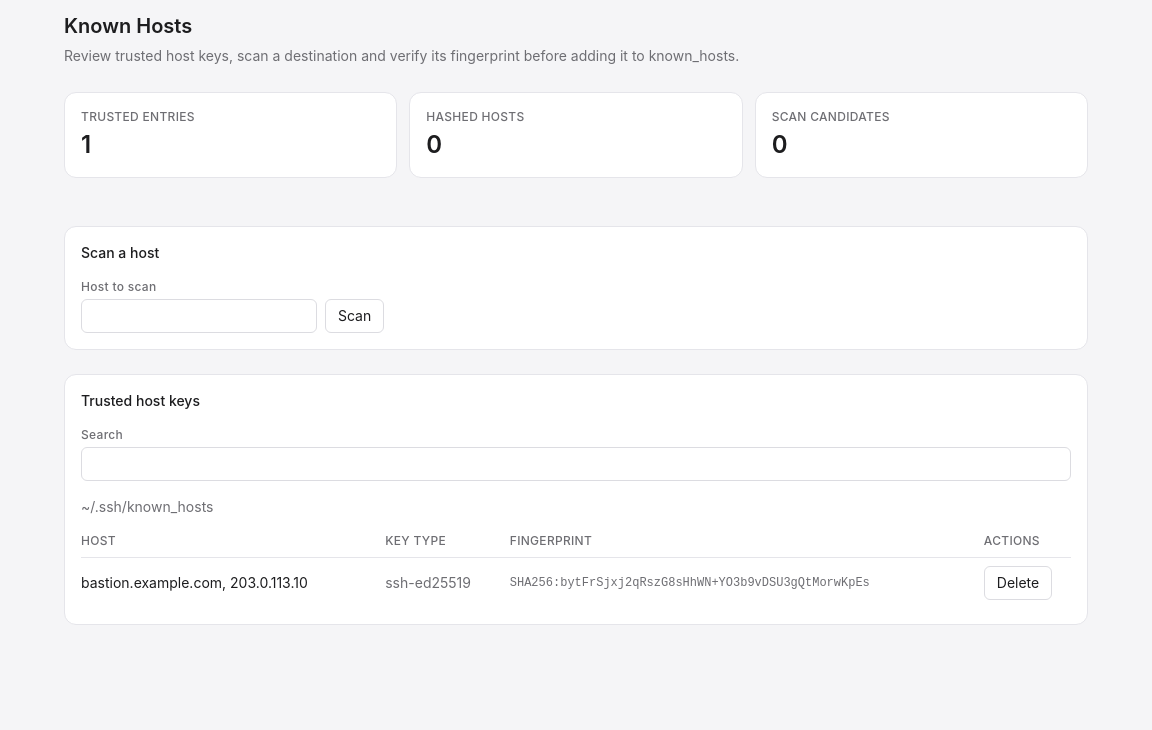
it: KnownHostsPanel › never labels a scanned key verified, even when the response claims it is
Type "new.example.com" into the field labelled "Host to scan" at point(199, 316), box [81,299,317,333]
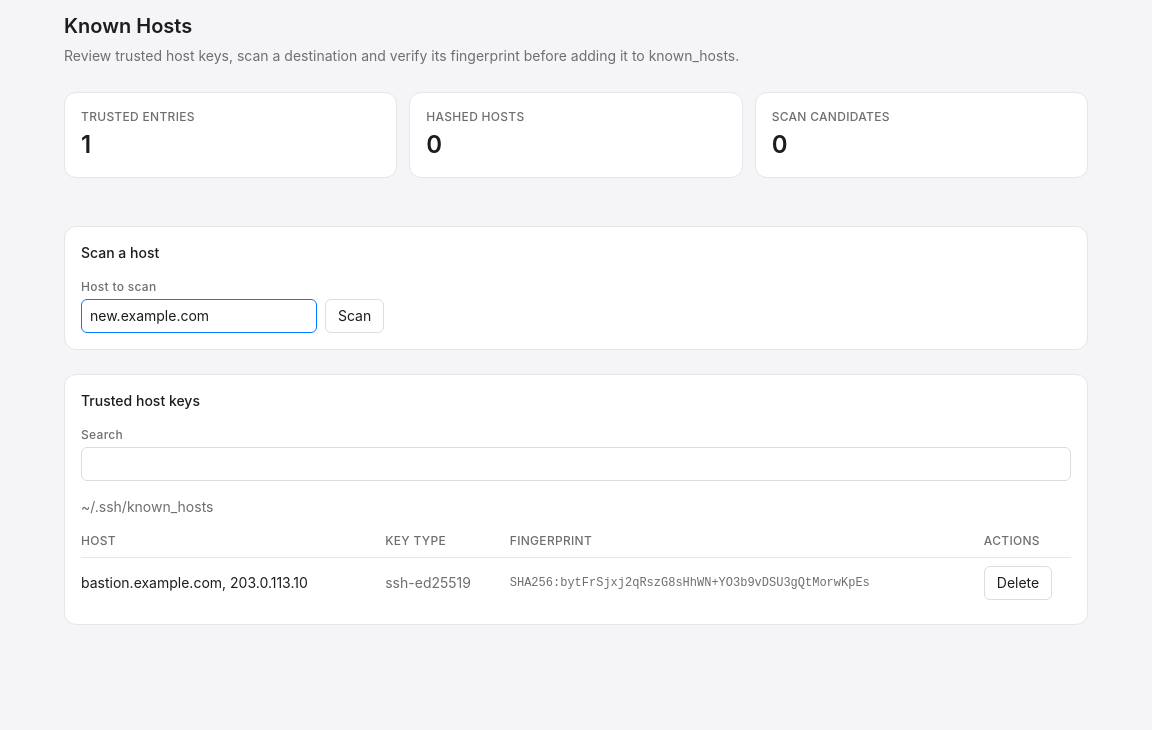
Click the button "Scan" at point(355, 316), box [325,299,384,333]
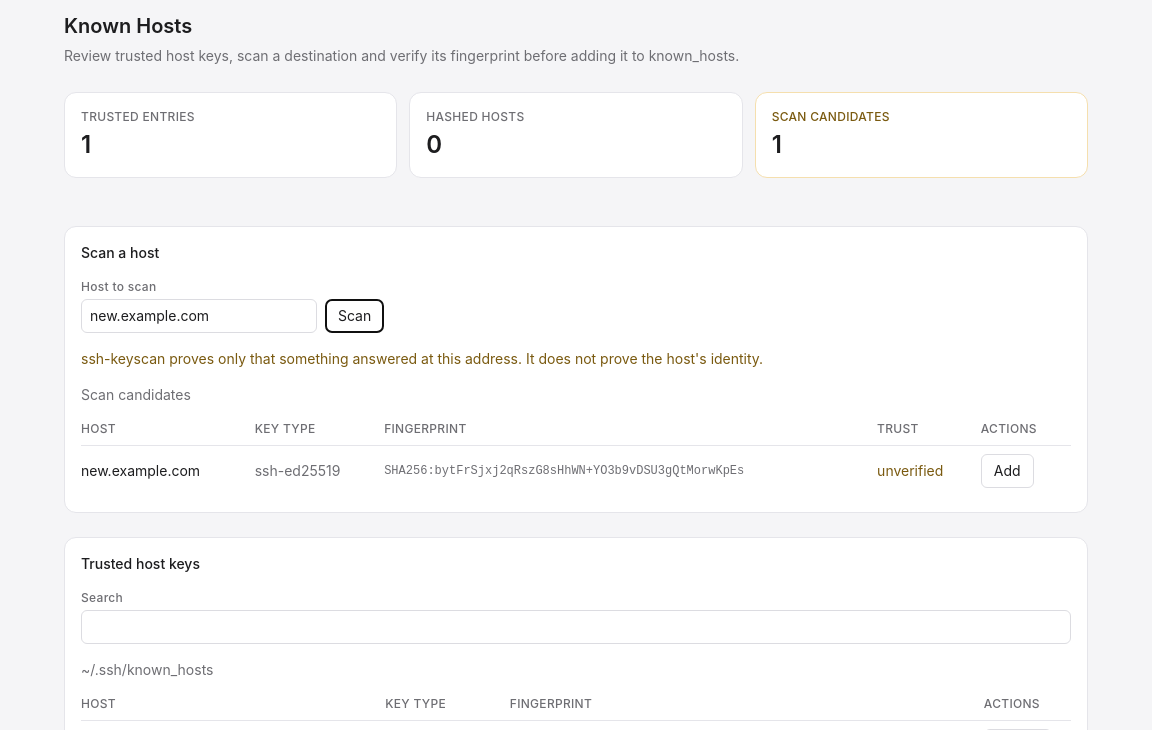
Now the text "unverified" is shown, box [877,446,981,496]
